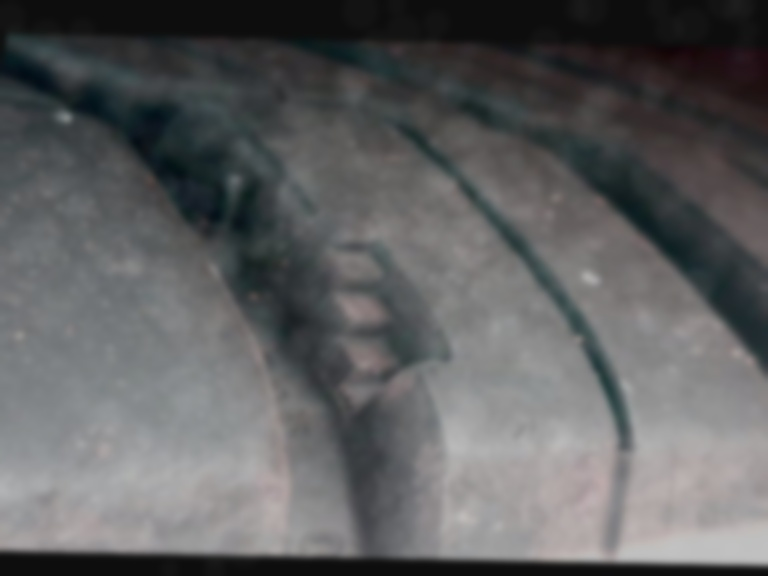temoin:90: (227, 201, 503, 440)
